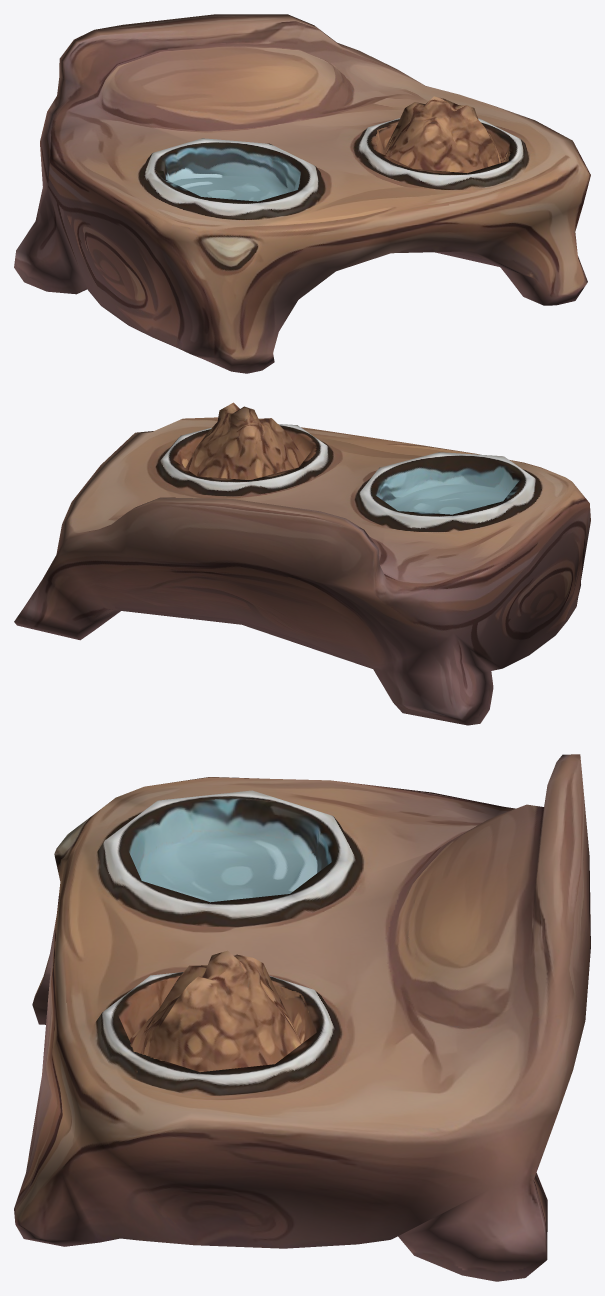
File: Feeder.glb
3 views of the same model, one above another, from view 1: azimuth 30°, elevation 25°; view 2: azimuth 150°, elevation 25°; view 3: azimuth 270°, elevation 25° (orthographic). The views are drawn at different scales.
Parts seen in each view (by area): view 1: Feeder; view 2: Feeder; view 3: Feeder.
Boxes of the visible parts, bbox=[...] form: Feeder: bbox=[14, 14, 590, 373]; Feeder: bbox=[14, 402, 590, 725]; Feeder: bbox=[14, 754, 590, 1281].
Size of what is drawn, in the model's own units: 0.9986 by 0.4277 by 0.7865.
Materials: 1 (1 with a texture image).
